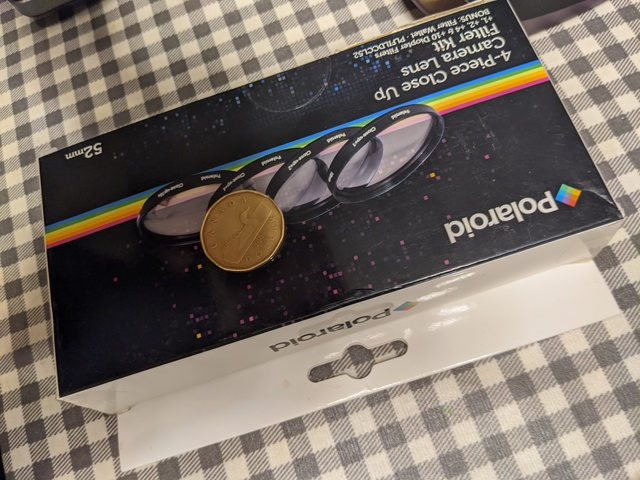loonie: (190, 186, 293, 274)
